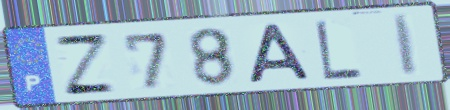7: (120, 29, 172, 91)
8: (186, 25, 240, 89)
A: (244, 21, 316, 85)
I: (390, 11, 421, 78)
L: (312, 18, 365, 81)
Z: (51, 33, 120, 97)
